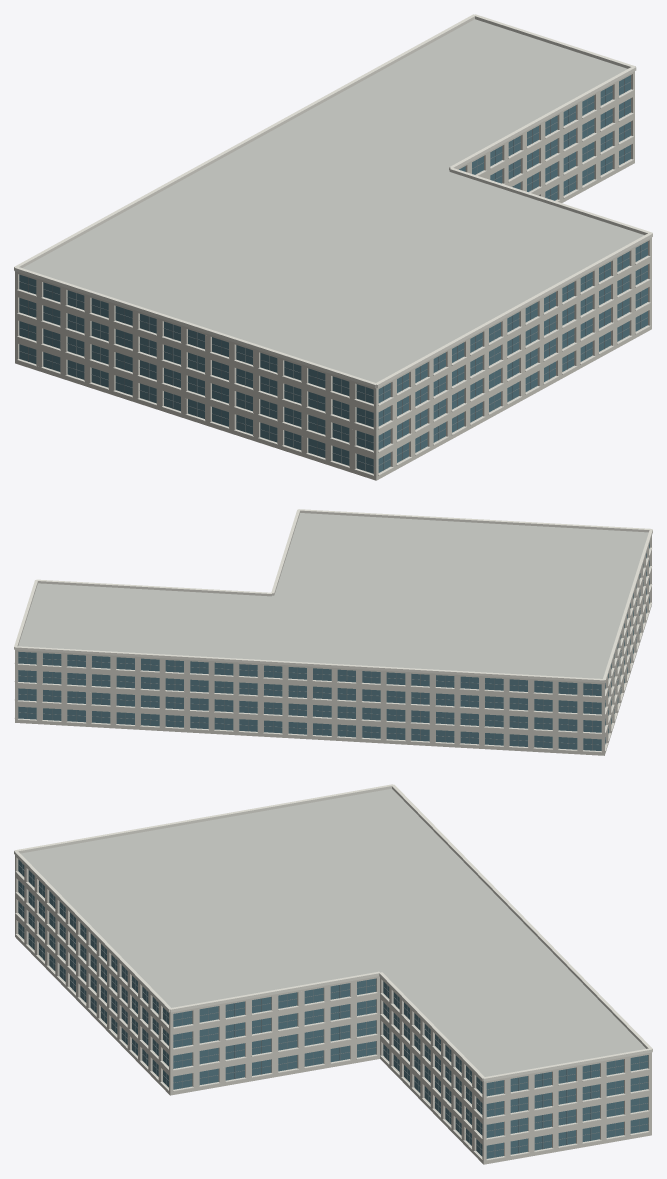
3 renders of one model, top to bottom at view 1: azimuth 30°, elevation 25°; view 2: azimuth 150°, elevation 25°; view 3: azimuth 270°, elevation 25°, orthographic. The views are drawn at different scales.
Parts seen in each view (by area): view 1: roof, wall, glass, trim, metal; view 2: roof, wall, glass, trim, metal; view 3: roof, wall, glass, trim, metal.
Part boxes in pixels (x1,y1,x2,y2): roof: [22, 19, 644, 382]; wall: [15, 71, 651, 480]; glass: [19, 75, 647, 473]; trim: [14, 14, 652, 475]; metal: [19, 78, 647, 471]; roof: [18, 513, 648, 678]; wall: [15, 536, 651, 755]; glass: [18, 543, 649, 750]; trim: [14, 509, 652, 752]; metal: [18, 560, 649, 750]; roof: [21, 788, 645, 1076]; wall: [15, 855, 651, 1164]; glass: [18, 859, 648, 1158]; trim: [14, 784, 652, 1160]; metal: [18, 863, 648, 1157].
Size of the model in its own units: 95.42 by 13.04 by 87.45.
